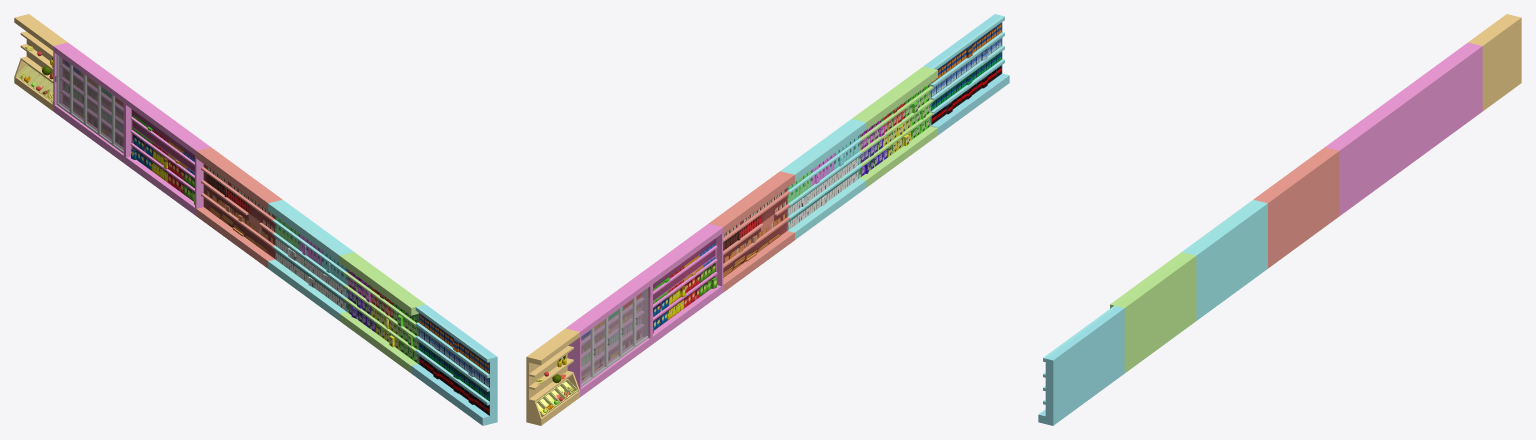
The model's file is Shalves_3D_Test.fbx.
The picture shows the model from 3 angles, left to right: view 1: azimuth 30°, elevation 25°; view 2: azimuth 150°, elevation 25°; view 3: azimuth 330°, elevation 25°; orthographic projection.
Visible parts, largest first — view 1: Shelves_Snacks11; view 2: Shelves_Snacks11; view 3: Shelves_Snacks11.
Part boxes in pixels (<box>): Shelves_Snacks11: <box>14,14,497,425</box>; Shelves_Snacks11: <box>526,14,1009,425</box>; Shelves_Snacks11: <box>1038,14,1521,425</box>.
Bounding box in the file's own units: 56.4 × 232 × 3008.
